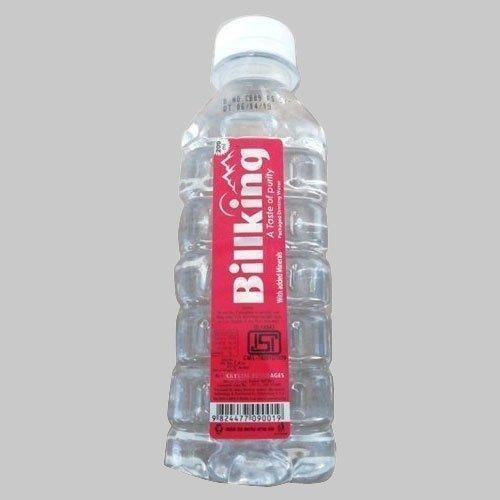bottle-plastic: (164, 11, 339, 487)
